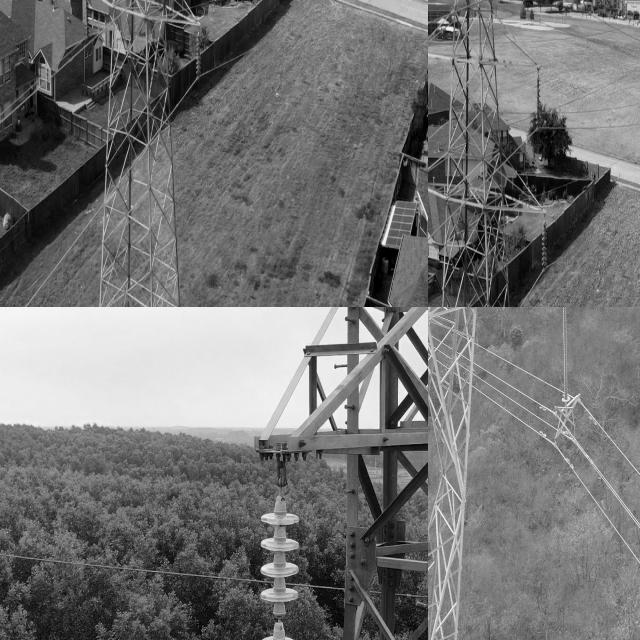杆塔: (237, 307, 428, 640), (75, 0, 203, 307), (428, 0, 545, 307), (428, 307, 486, 640)
正常电缆: (552, 443, 640, 570), (584, 451, 640, 534), (586, 408, 640, 486), (482, 387, 552, 447), (497, 350, 554, 394), (498, 374, 549, 418)
正常绝缘子: (252, 472, 300, 640), (557, 307, 574, 416), (530, 60, 548, 158), (192, 10, 210, 98), (538, 211, 554, 287), (81, 0, 93, 55)
绝缘子破损: (273, 604, 286, 632)
